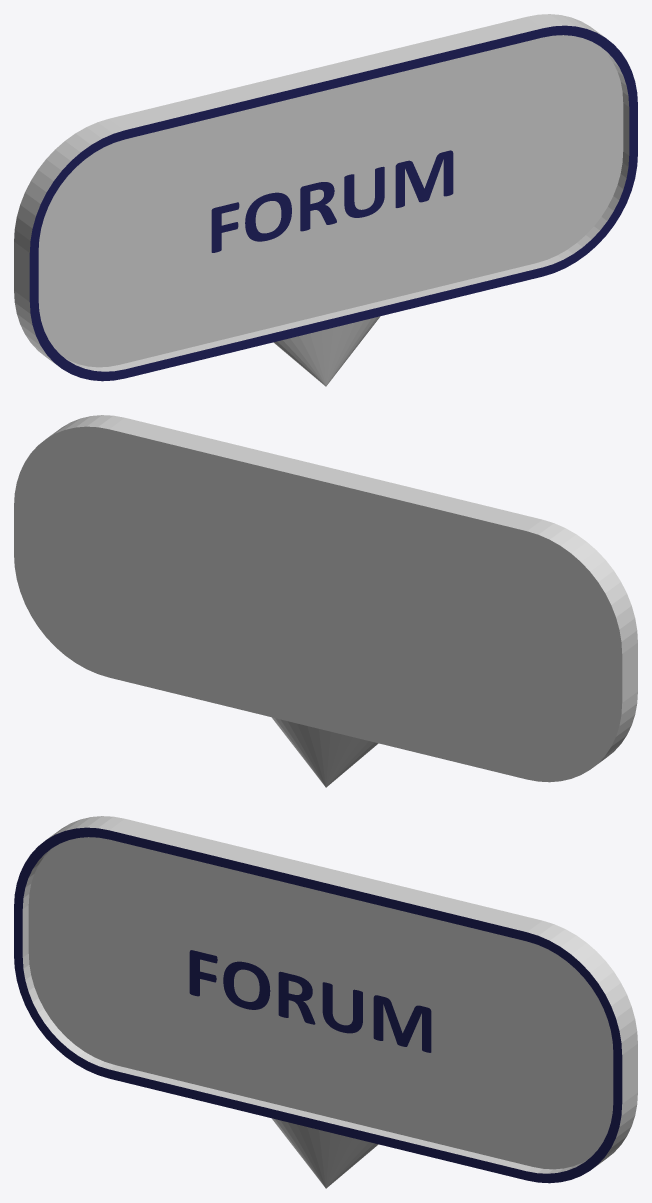
Rendered from ForumDefault.glb.
3 views of the same model, one above another, from view 1: azimuth 30°, elevation 25°; view 2: azimuth 150°, elevation 25°; view 3: azimuth 330°, elevation 25° (orthographic).
Parts seen in each view (by area): view 1: 立方体, 立方体.001, 立方体.002, 文本, 立方体.004; view 2: 立方体, 立方体.003, 立方体.002, 立方体.004; view 3: 立方体, 立方体.001, 立方体.002, 文本, 立方体.004.
Boxes of the visible parts, box(x1,y1,x2,y2) form: 立方体: box(38, 35, 629, 371); 立方体.001: box(29, 25, 637, 381); 立方体.002: box(14, 14, 603, 366); 文本: box(211, 150, 453, 252); 立方体.004: box(273, 316, 380, 386); 立方体: box(21, 434, 614, 774); 立方体.003: box(14, 426, 622, 782); 立方体.002: box(48, 415, 637, 767); 立方体.004: box(271, 717, 378, 787); 立方体: box(22, 837, 613, 1173); 立方体.001: box(14, 827, 622, 1183); 立方体.002: box(48, 816, 637, 1168); 文本: box(189, 950, 431, 1052); 立方体.004: box(271, 1118, 378, 1188).
Size of the model in its own units: 5.13 by 2.52 by 0.2745.
